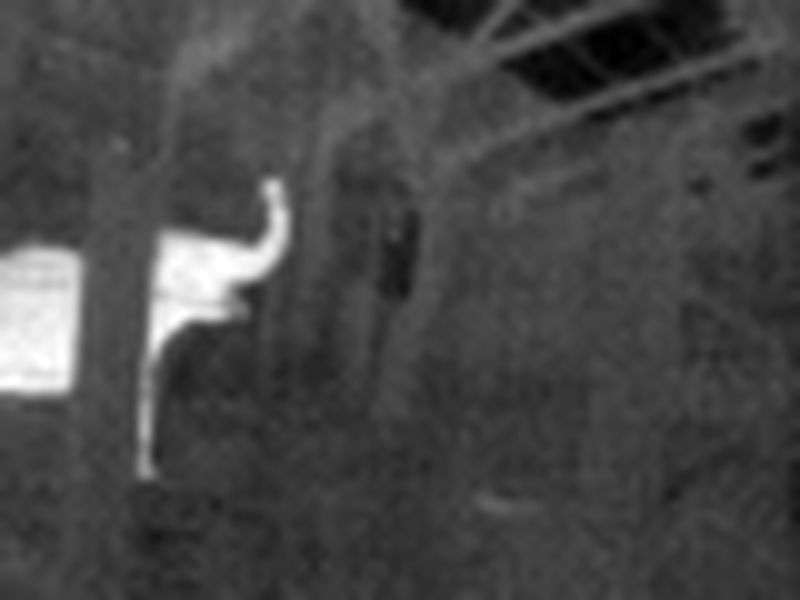elephant: (5, 177, 318, 471)
